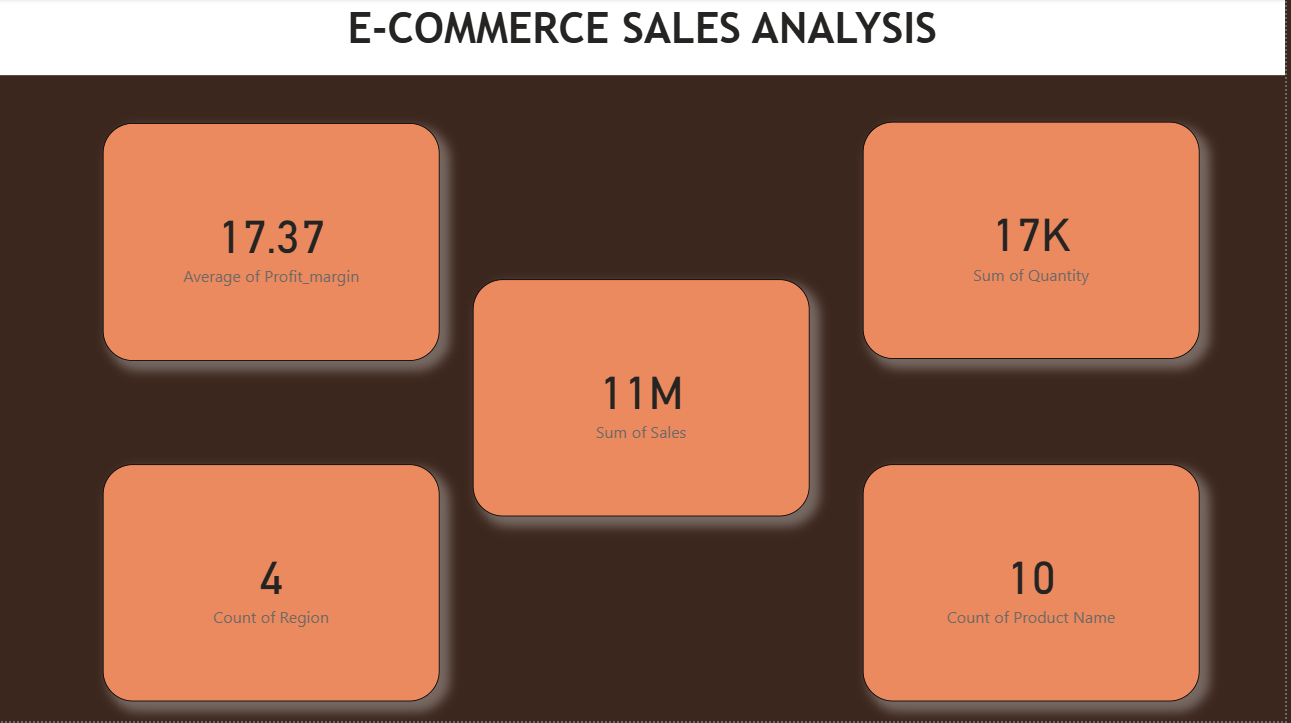

The page's visual inventory and layout, read from the dashboard file:
{"tool":"powerbi","page":{"name":"Total Analysis","canvas":[1280,720],"ordinal":0},"visuals":[{"type":"textbox","box":[0,0,1280.3,76.8],"z":0},{"type":"card","fields":{"Values":["Sum(raw_data.Sales)"]},"box":[472,279.9,334.8,236],"z":1000},{"type":"card","fields":{"Values":["Count(raw_data.Region)"]},"box":[102.9,463.8,334.8,236],"z":2000},{"type":"card","fields":{"Values":["Count(raw_data.Product Name)"]},"box":[859,463.8,334.8,236],"z":3000},{"type":"card","fields":{"Values":["Sum(raw_data.Quantity)"]},"box":[859,123.5,334.8,236],"z":4000},{"type":"card","fields":{"Values":["Avg(raw_data.Profit_margin)"]},"box":[102.6,124,335,236.6],"z":5000}]}

Visuals, with their boxes in screenshot pixels (x1, y1, x2, y2), scaled from the page's 1280x720 canvas onto the 1291x723 screenshot:
textbox: bbox(0, 0, 1290, 77)
card - Sum(raw_data.Sales): bbox(476, 281, 814, 518)
card - Count(raw_data.Region): bbox(104, 466, 441, 703)
card - Count(raw_data.Product Name): bbox(866, 466, 1204, 703)
card - Sum(raw_data.Quantity): bbox(866, 124, 1204, 361)
card - Avg(raw_data.Profit_margin): bbox(103, 125, 441, 362)
